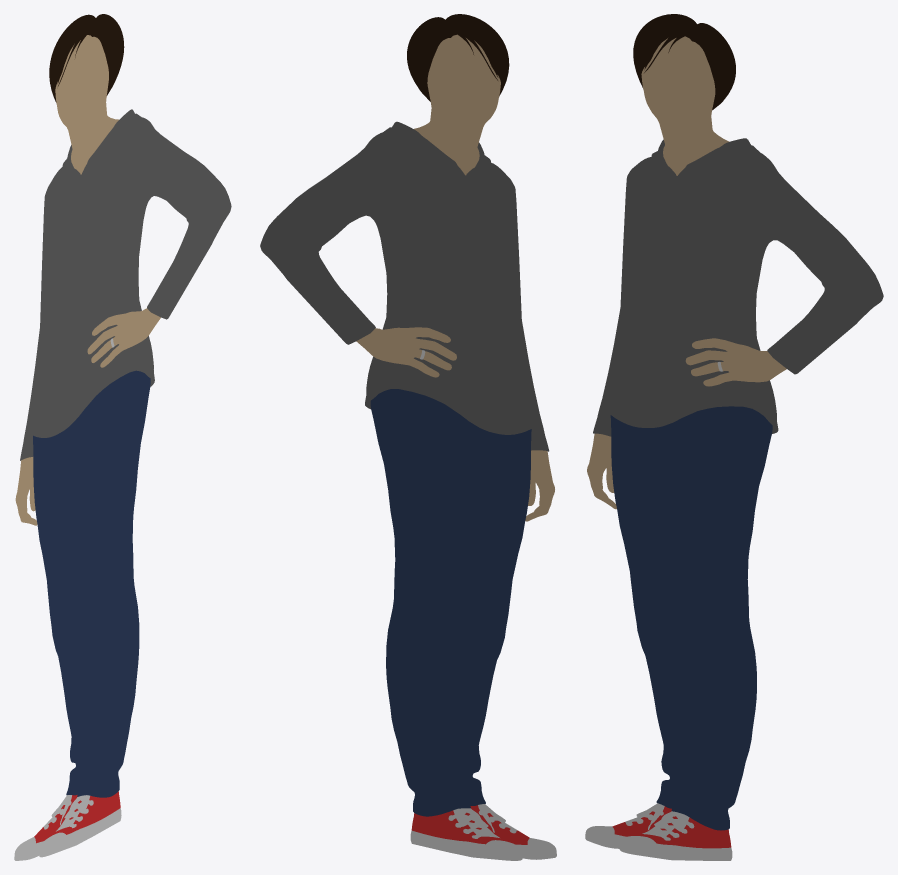
File: pond_helix.dae
The picture shows the model from 3 angles, left to right: view 1: azimuth 30°, elevation 25°; view 2: azimuth 150°, elevation 25°; view 3: azimuth 330°, elevation 25°; orthographic projection. The views are drawn at different scales.
Parts seen in each view (by area): view 1: Stacy (×9); view 2: Stacy (×9); view 3: Stacy (×9).
Boxes of the visible parts, box(x1,y1,x2,y2) form: Stacy (×9): box(14, 14, 231, 860); Stacy (×9): box(260, 14, 556, 860); Stacy (×9): box(585, 14, 883, 860).
Size of the model in its own units: 21.11 by 5.33 by 65.57.
